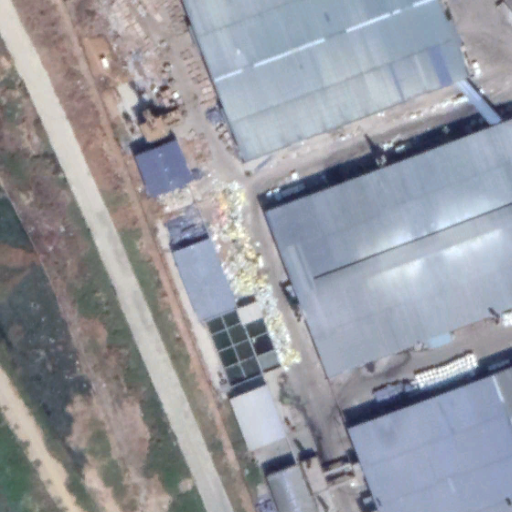msw: (203, 185, 300, 371)
